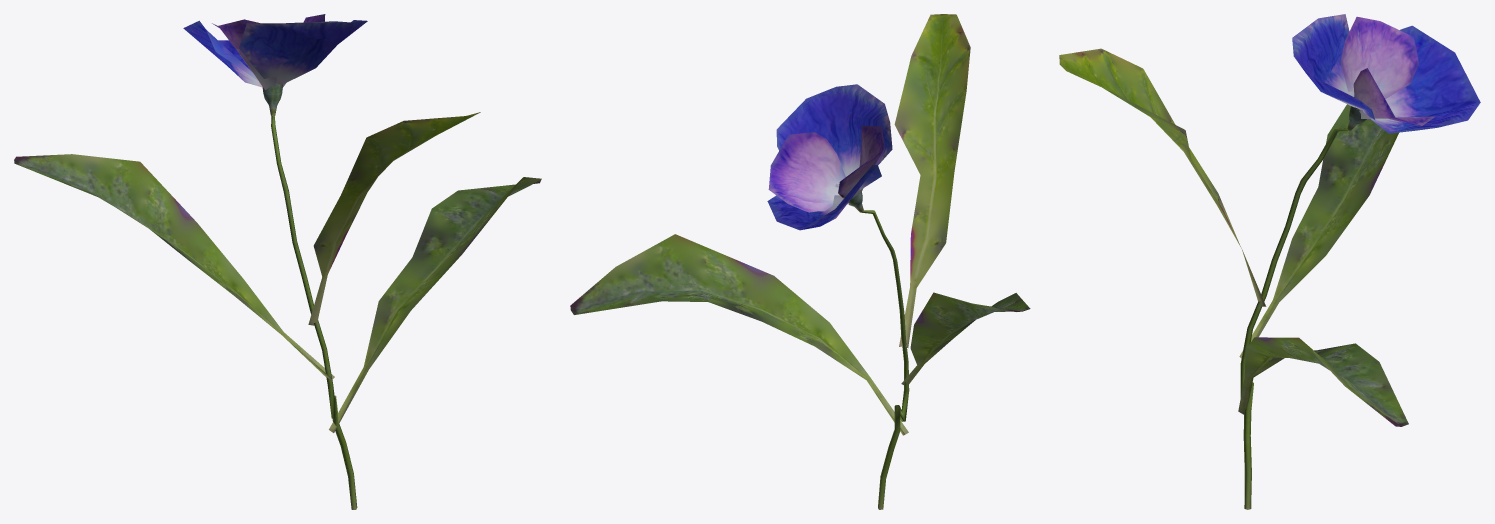
File: Poppy_baby_short_deepblue.glb
The picture shows the model from 3 angles, left to right: view 1: azimuth 30°, elevation 25°; view 2: azimuth 150°, elevation 25°; view 3: azimuth 270°, elevation 25°; orthographic projection. The views are drawn at different scales.
Parts seen in each view (by area): view 1: baby poppy; view 2: baby poppy; view 3: baby poppy.
Part boxes in pixels (x1,y1,x2,y2): baby poppy: [14, 14, 541, 509]; baby poppy: [570, 14, 1030, 509]; baby poppy: [1059, 14, 1480, 509].
Bounding box in the file's own units: 1.32 × 1.17 × 0.9442.
Materials: 1 (1 with a texture image).
